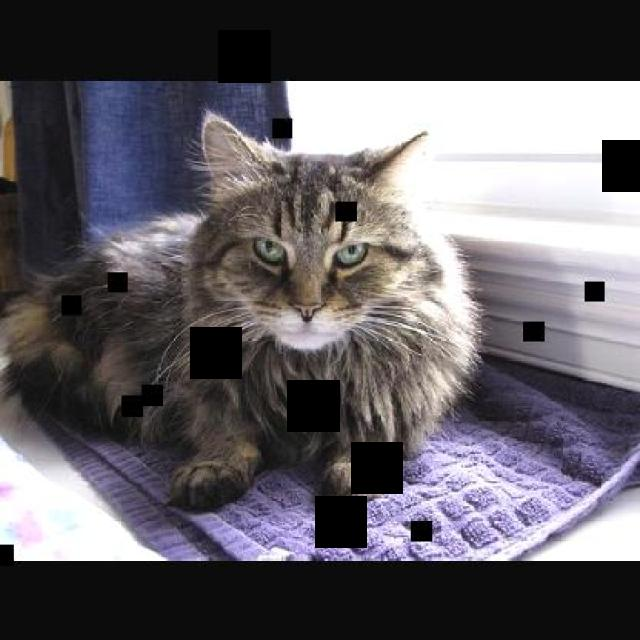unauthorized: (0, 108, 485, 512)
